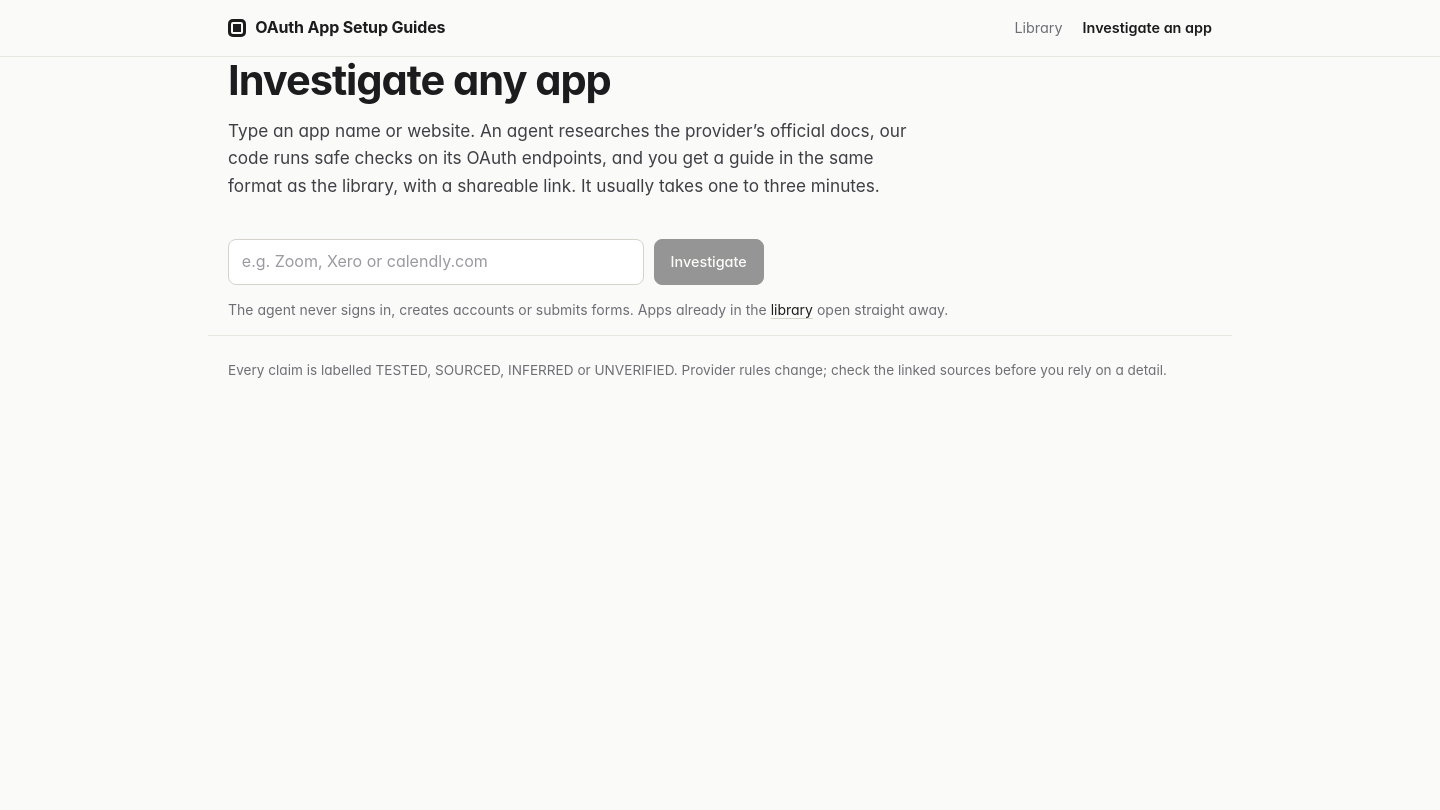
GeneratePage › says so when the app does not use OAuth
In the field: (436,262) 228,239 -> 644,285, type "Some API"
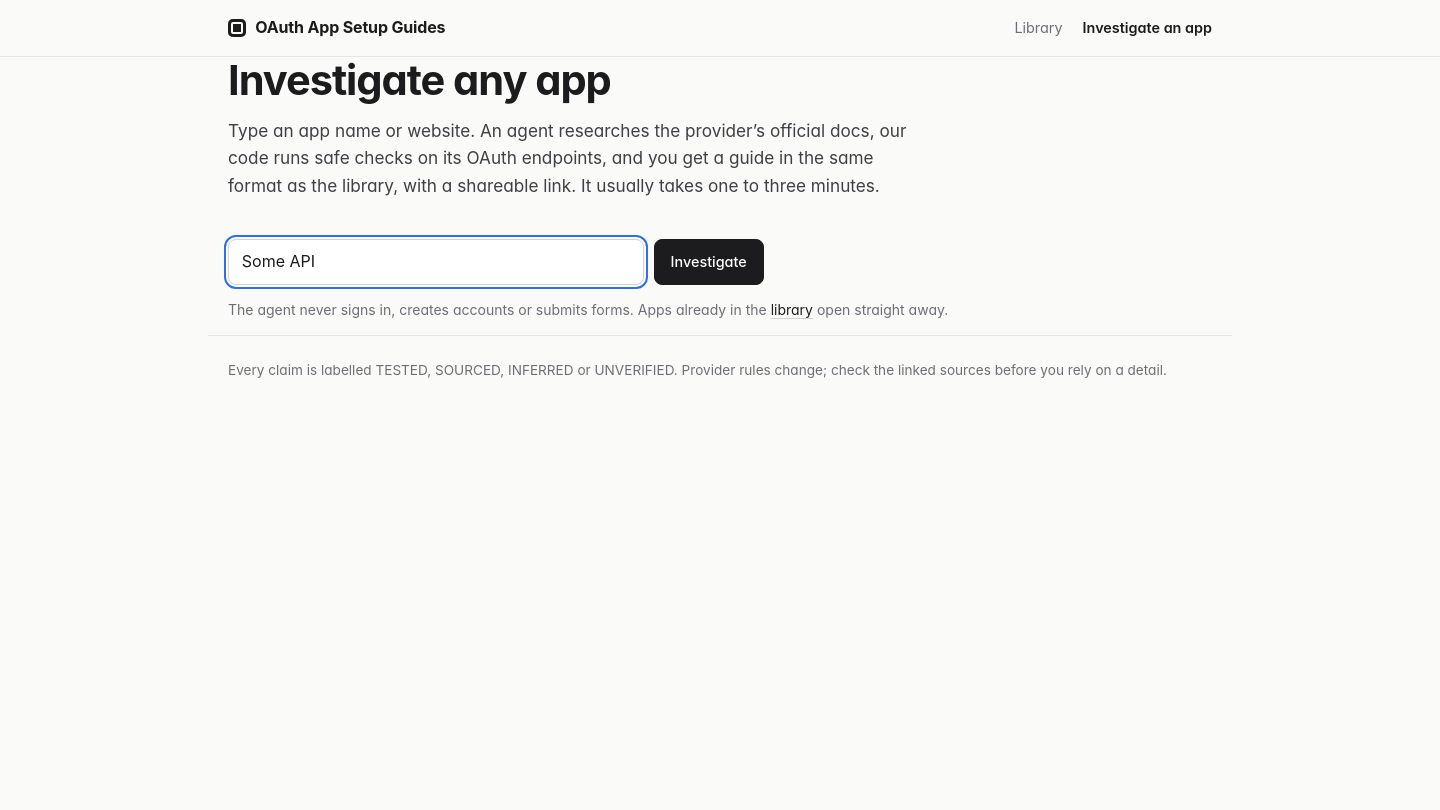
Click the button "Investigate": (709,262) 654,239 -> 764,285
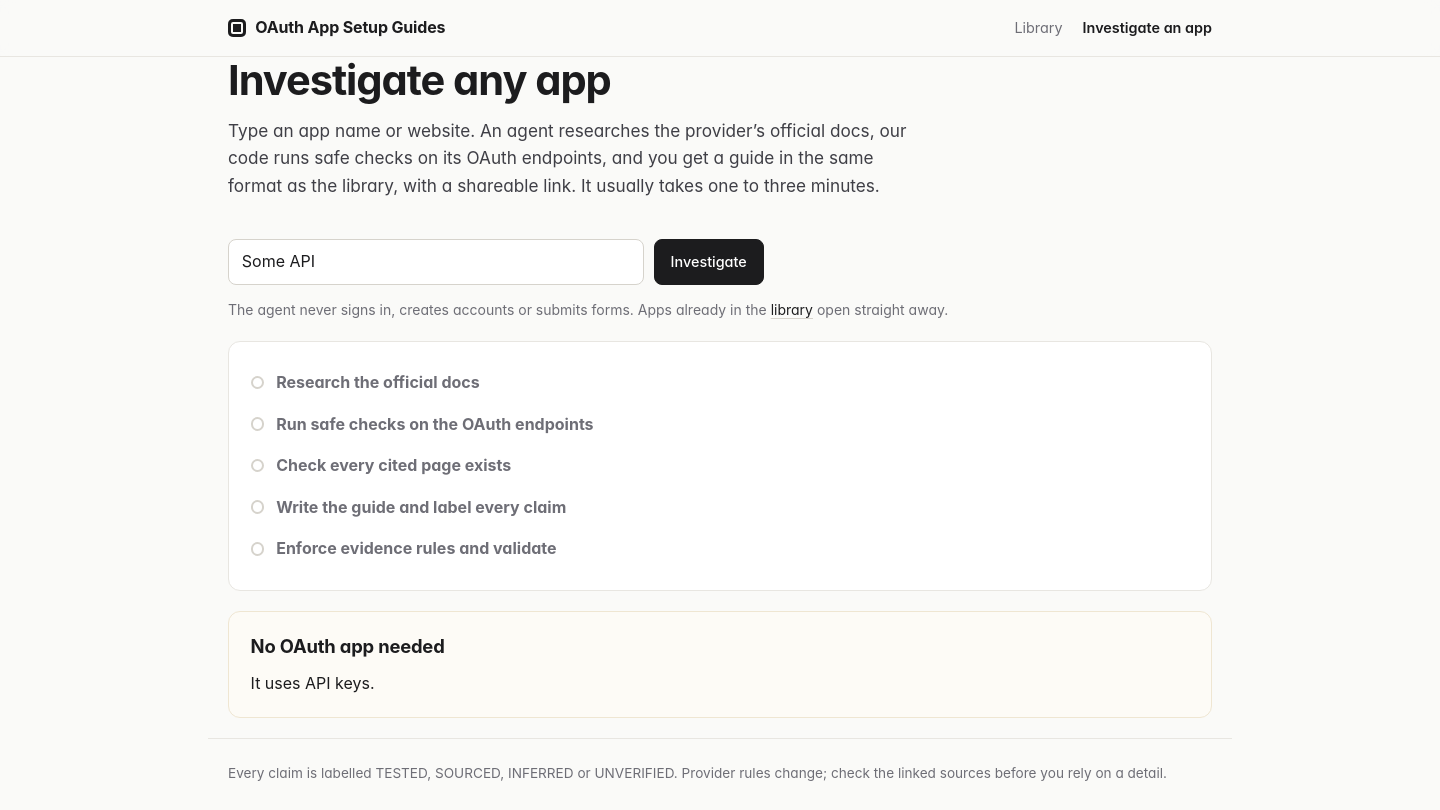
Result: the heading "No OAuth app needed" is shown at 251,635 -> 445,657
